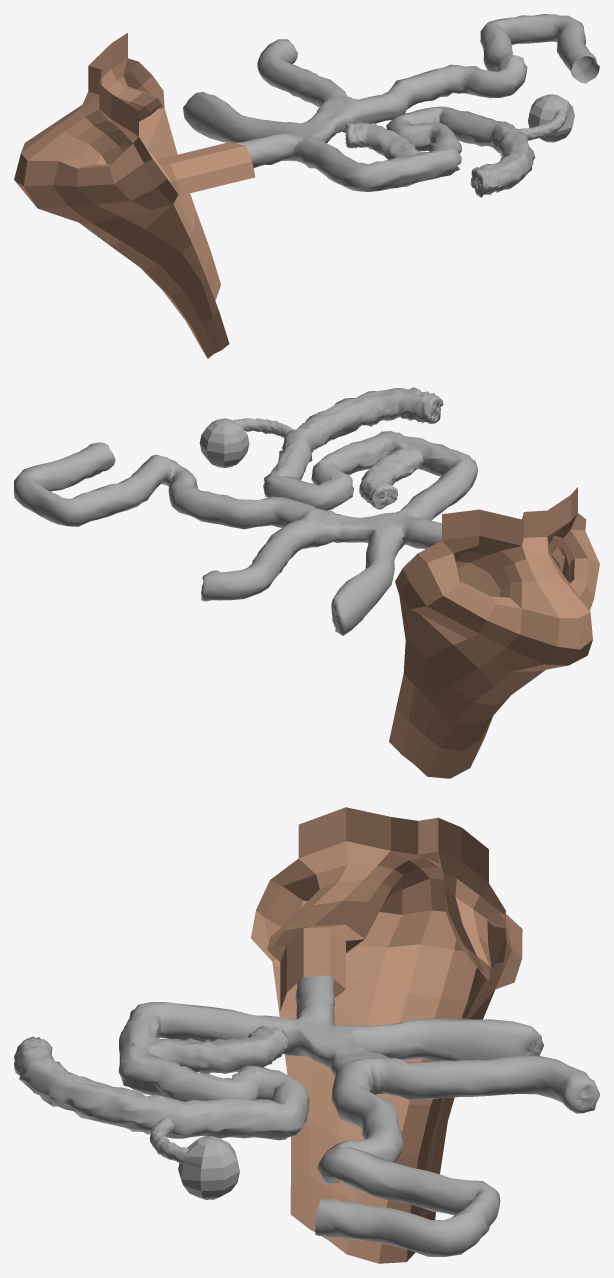
The model's file is Pulmon_tubemap_poly.fbx.
3 renders of one model, top to bottom at view 1: azimuth 30°, elevation 25°; view 2: azimuth 150°, elevation 25°; view 3: azimuth 270°, elevation 25°, orthographic. The views are drawn at different scales.
Parts seen in each view (by area): view 1: pulmon_poly, nariz_poly; view 2: pulmon_poly, nariz_poly; view 3: pulmon_poly, nariz_poly.
Boxes of the visible parts, left/top/right/bottom form: pulmon_poly: left=183, top=14, right=599, bottom=197; nariz_poly: left=14, top=33, right=255, bottom=358; pulmon_poly: left=14, top=387, right=477, bottom=635; nariz_poly: left=389, top=487, right=599, bottom=778; pulmon_poly: left=14, top=964, right=599, bottom=1256; nariz_poly: left=251, top=807, right=522, bottom=1263.
Size of the model in its own units: 456 by 235 by 313.
